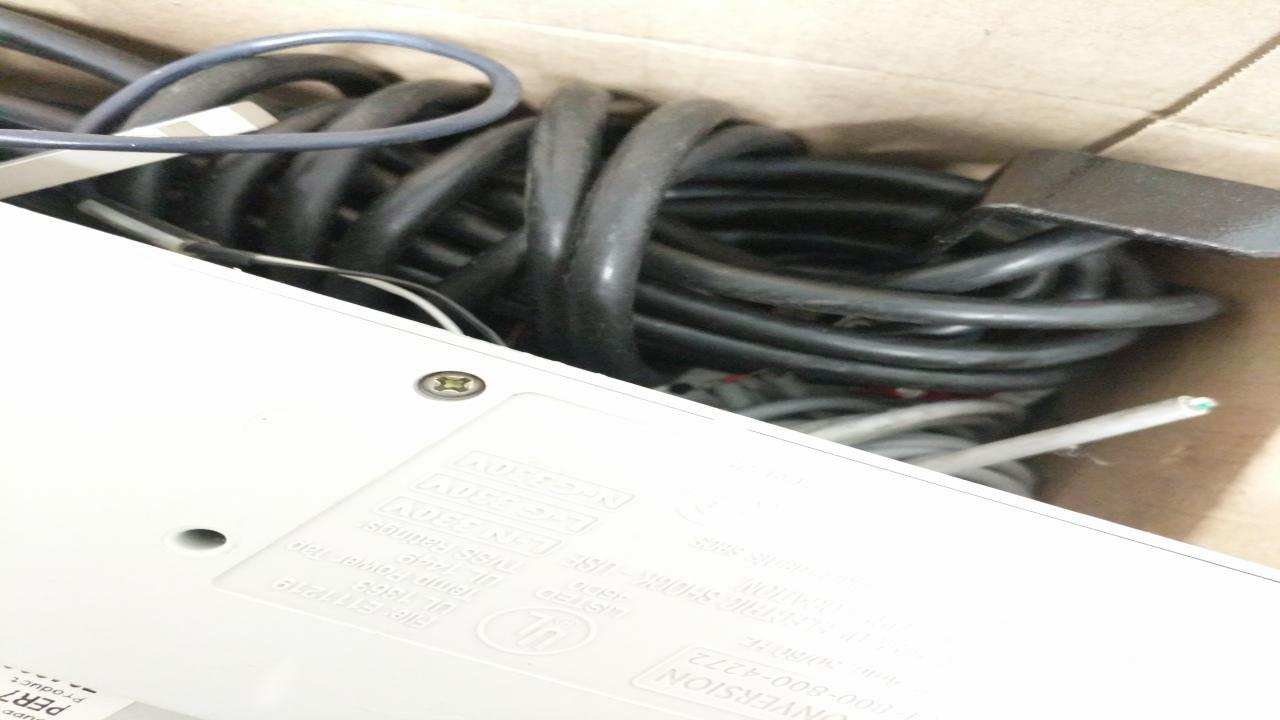CRS: (412, 371, 481, 397)
